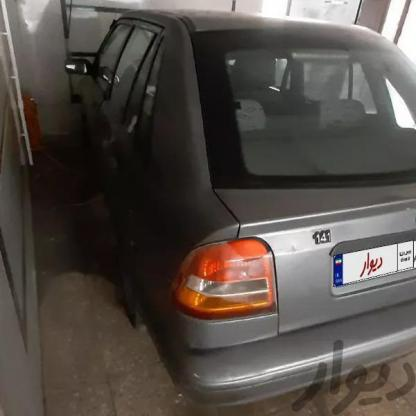Car: (73, 0, 416, 387)
